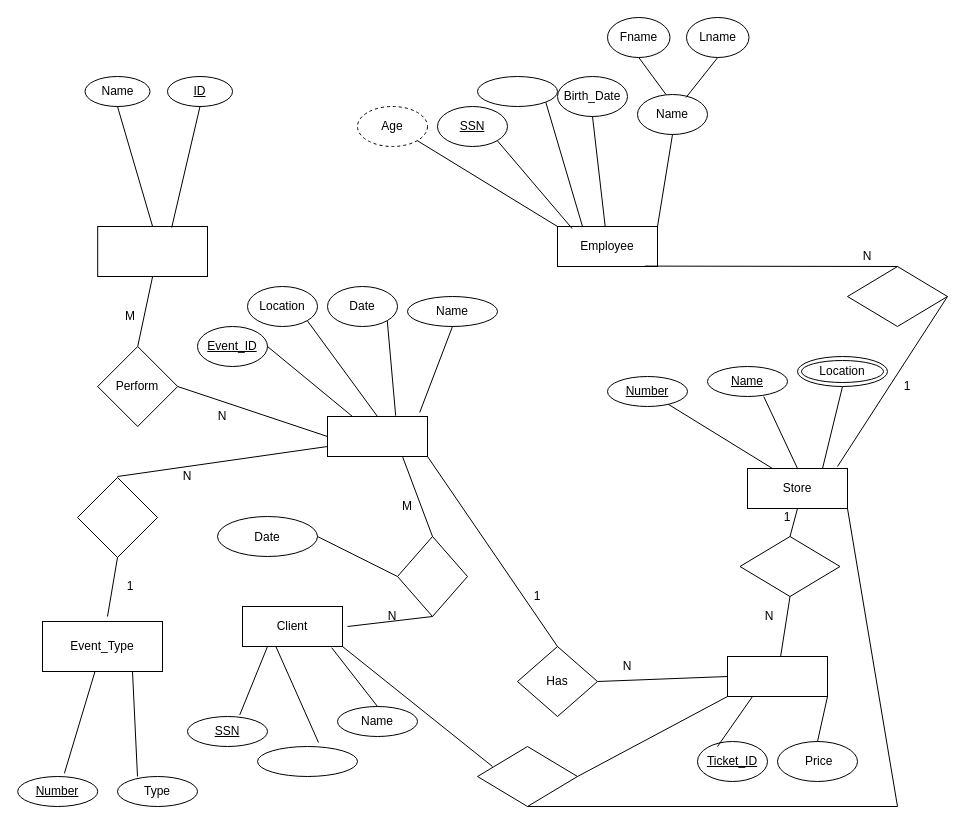
Image size: 966x832. Some labels were removed from this diagram. The centre of each missing label's shape, as x and y in pixels:
"Attend" belongs at (432,576).
"Buy" belongs at (527,776).
"Event" belongs at (377,436).
"Have" belongs at (117,517).
"Performer" belongs at (152,251).
"Phone_Number" belongs at (307,761).
"Salary" belongs at (517,91).
"Sell" belongs at (789,566).
"Ticket" belongs at (777,676).
"Work For" belongs at (897,296).
